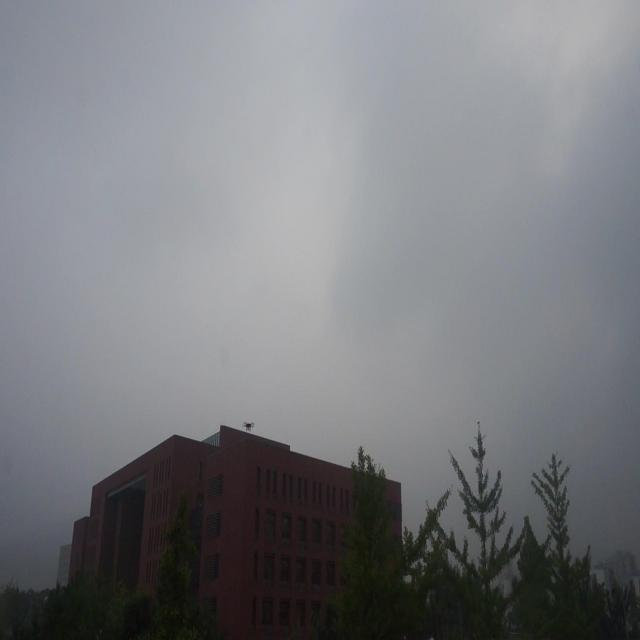UAV: (242, 421, 255, 432)
